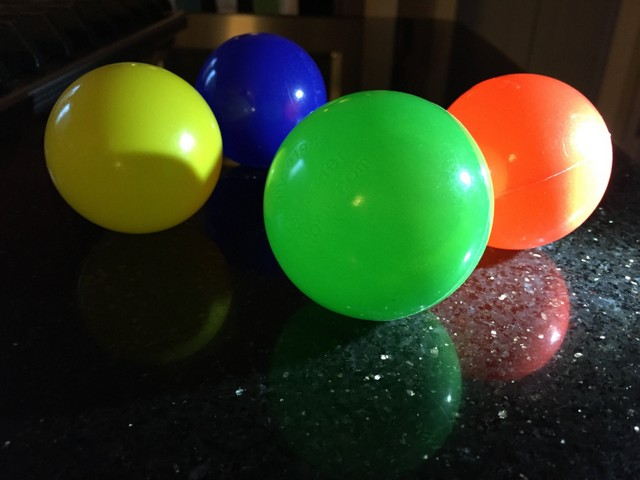ball: (198, 32, 327, 166)
